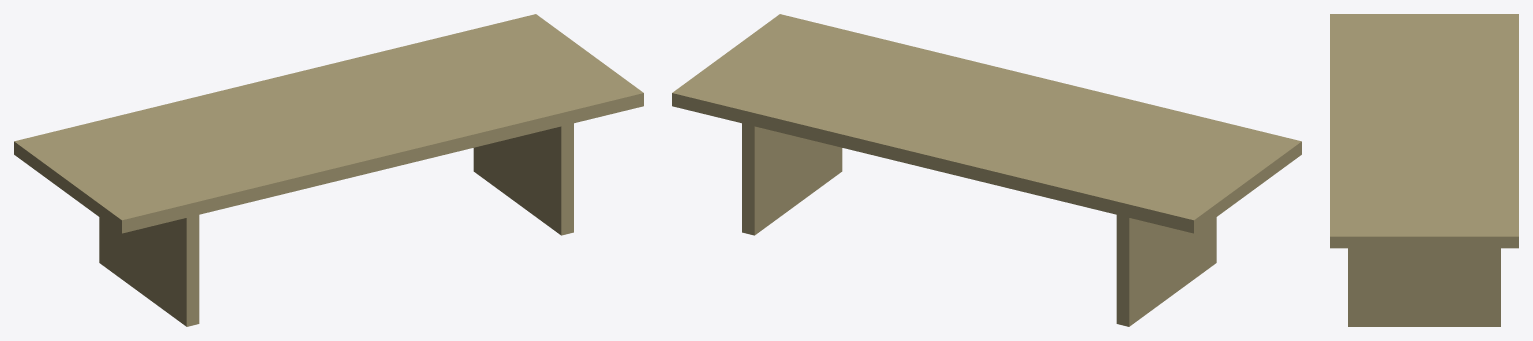
File: Bench.fbx
The picture shows the model from 3 angles, left to right: view 1: azimuth 30°, elevation 25°; view 2: azimuth 150°, elevation 25°; view 3: azimuth 270°, elevation 25°; orthographic projection. The views are drawn at different scales.
Visible parts, largest first — view 1: Cube.011; view 2: Cube.011; view 3: Cube.011.
Part boxes in pixels (x1,y1,x2,y2): Cube.011: (14, 14, 643, 326); Cube.011: (672, 14, 1301, 326); Cube.011: (1330, 14, 1518, 326).
Bounding box in the file's own units: 155 × 37.64 × 55.61.
1 material, 1 textured.
